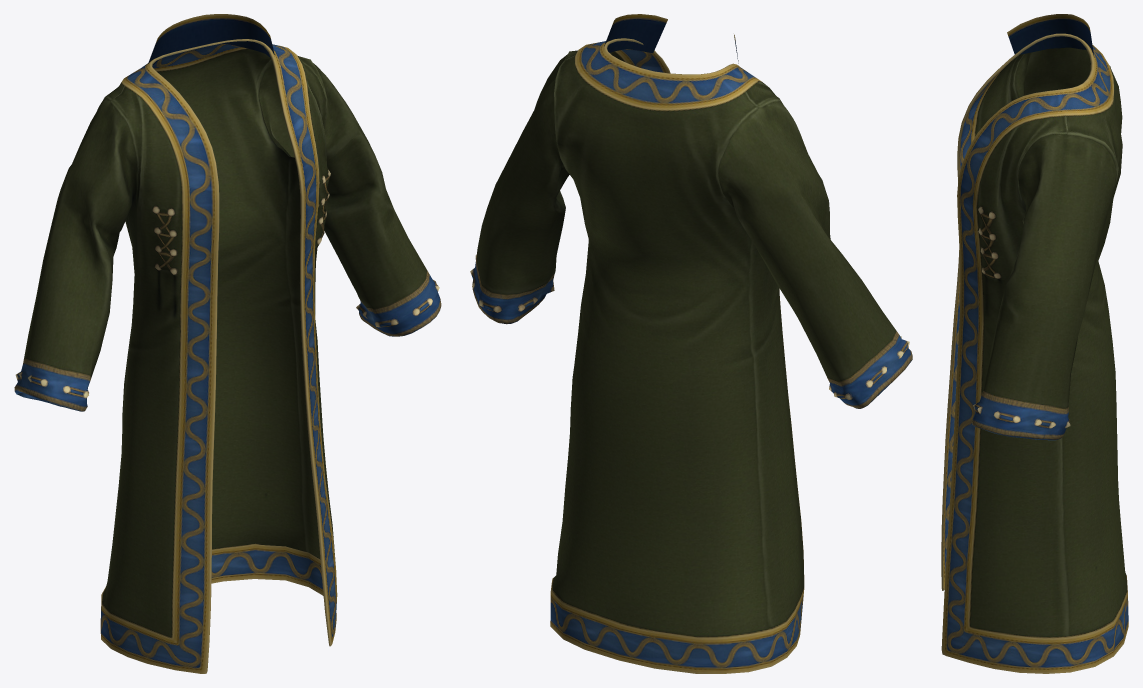
The model's file is kimono.glb.
The picture shows the model from 3 angles, left to right: view 1: azimuth 30°, elevation 25°; view 2: azimuth 150°, elevation 25°; view 3: azimuth 270°, elevation 25°; orthographic projection. The views are drawn at different scales.
Visible parts, largest first — view 1: all; view 2: all; view 3: all.
Part boxes in pixels (x1,y1,x2,y2): all: [14, 14, 441, 673]; all: [470, 14, 912, 673]; all: [941, 14, 1128, 673].
Size of the model in its own units: 0.5942 by 0.8167 by 0.235.
1 material, 1 textured.
